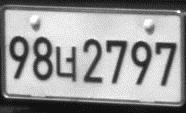2: (83, 38, 103, 84)
7: (104, 39, 129, 83), (155, 41, 177, 86)
8: (32, 35, 53, 80)
9: (130, 40, 153, 86), (9, 35, 29, 80)
너: (54, 45, 77, 83)
